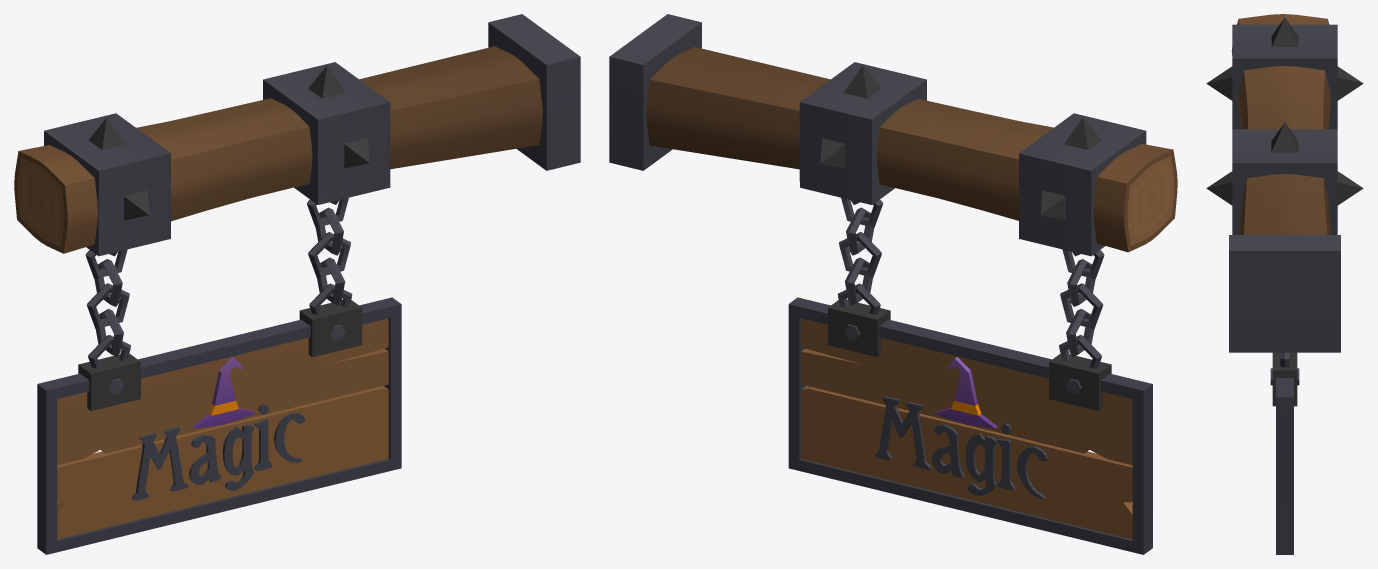
File: SignBoard_04.glb
3 views of the same model, side by side, from view 1: azimuth 30°, elevation 25°; view 2: azimuth 150°, elevation 25°; view 3: azimuth 270°, elevation 25° (orthographic). The views are drawn at different scales.
Visible parts, largest first — view 1: SignBoard_04_LOD0; view 2: SignBoard_04_LOD0; view 3: SignBoard_04_LOD0.
Boxes of the visible parts, bbox=[...] form: SignBoard_04_LOD0: bbox=[14, 14, 580, 554]; SignBoard_04_LOD0: bbox=[609, 14, 1177, 554]; SignBoard_04_LOD0: bbox=[1206, 14, 1363, 554].
Size of what is drawn, in the model's own units: 0.9475 by 0.7395 by 0.2628.
Materials: 1 (1 with a texture image).
